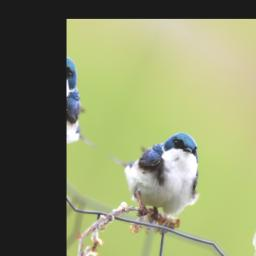Swallow: (92, 98, 220, 243)
